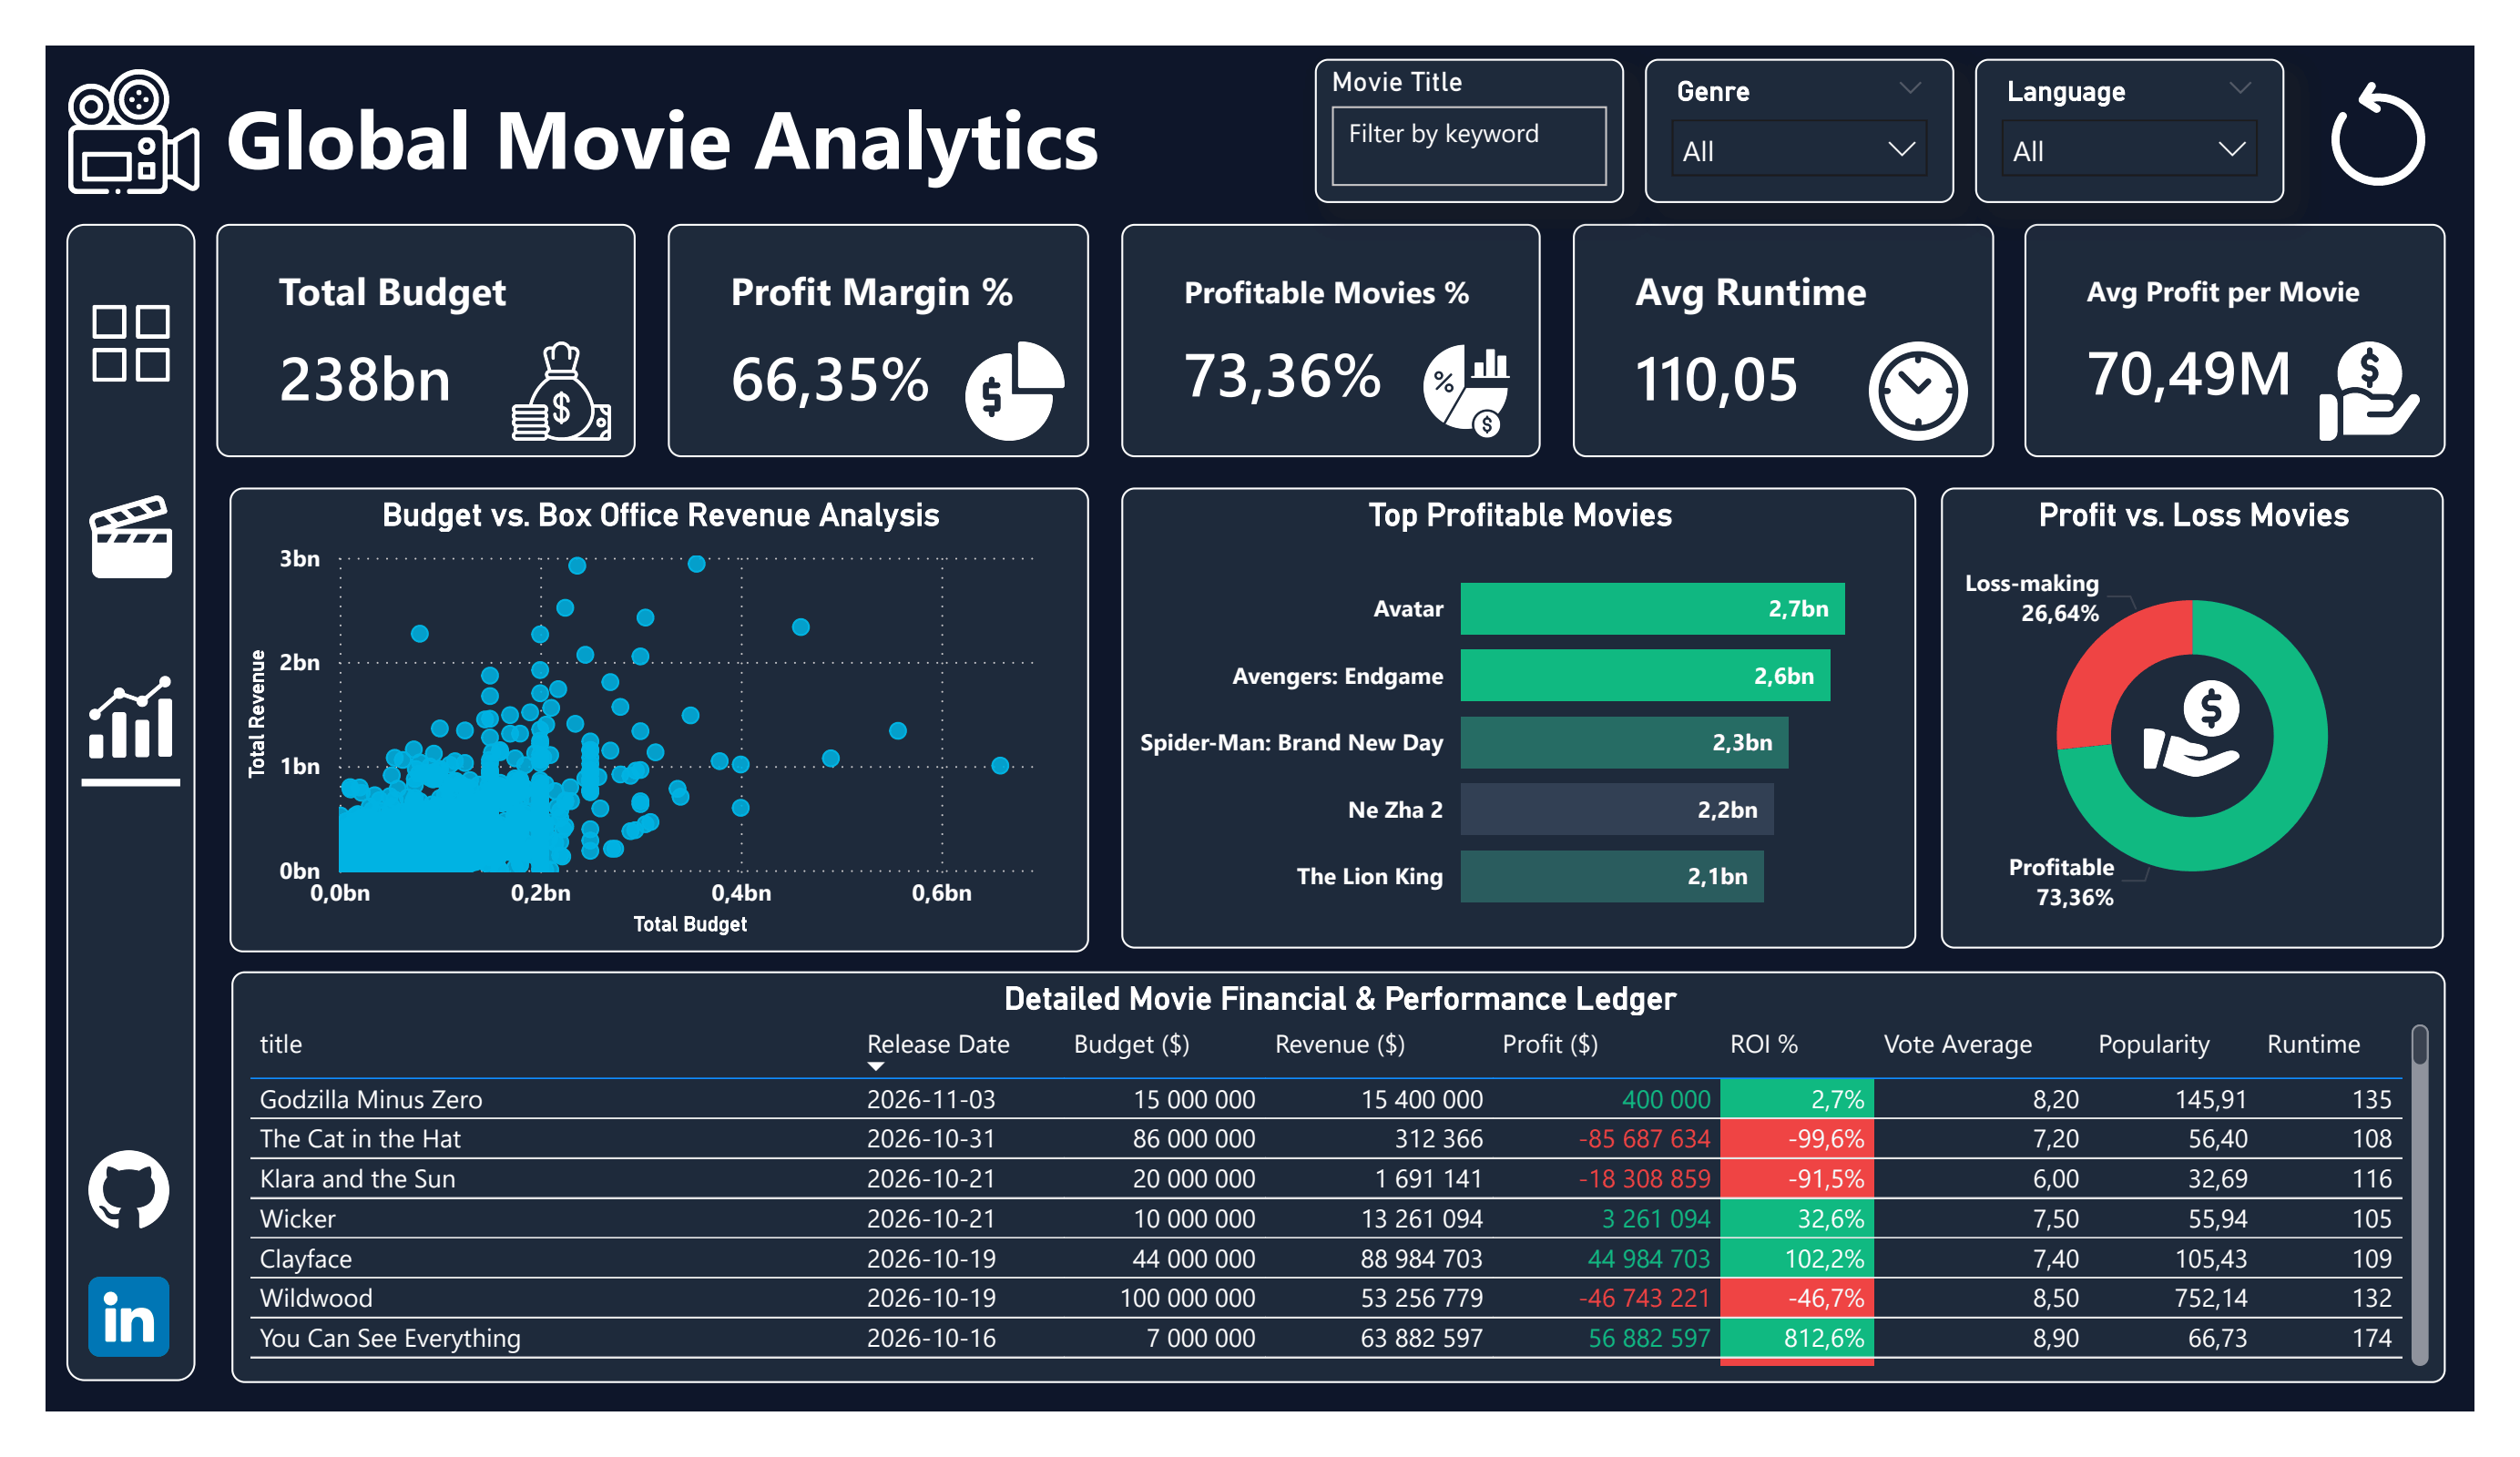

The dashboard page shown, as its layout file describes it:
{"tool":"powerbi","page":{"name":"Financial Drill-Down","canvas":[1280,720],"ordinal":2},"visuals":[{"type":"cardVisual","fields":{"Data":["_Measures.Total Budget"]},"box":[90,93.9,221.5,123.4],"z":0},{"type":"cardVisual","fields":{"Data":["_Measures.Profit Margin %"]},"box":[328.4,93.9,221.5,123.4],"z":1000},{"type":"cardVisual","fields":{"Data":["_Measures.Profitable Movies Ratio %"]},"box":[566.7,93.9,221.5,123.4],"z":2000},{"type":"cardVisual","fields":{"Data":["_Measures.Avg Runtime"]},"box":[805.1,93.9,221.5,123.4],"z":3000},{"type":"cardVisual","fields":{"Data":["_Measures.Avg Profit per Movie"]},"box":[1043.5,93.9,221.5,123.4],"z":4000},{"type":"textSlicer","title":"Movie Title","fields":{"Values":["vw_fact_movies_unique.title"]},"box":[668.7,7.4,163.5,75.9],"z":5000},{"type":"slicer","fields":{"Values":["dim_genres.genre_name"]},"box":[842.7,7.4,163.5,75.9],"z":6000},{"type":"slicer","fields":{"Values":["vw_fact_movies_unique.original_language"]},"box":[1016.7,7.4,163.5,75.9],"z":7000},{"type":"tableEx","title":"Detailed Movie Financial & Performance Ledger","fields":{"Values":["vw_fact_movies_unique.title","vw_fact_movies_unique.release_date","Sum(vw_fact_movies_unique.budget)","Sum(vw_fact_movies_unique.revenue)","Sum(vw_fact_movies_unique.profit)","Sum(vw_fact_movies_unique.roi)","Sum(vw_fact_movies_unique.vote_average)","Sum(vw_fact_movies_unique.popularity)","Sum(vw_fact_movies_unique.runtime)"]},"box":[97.7,488.3,1167.5,216.8],"z":8000},{"type":"shape","box":[10.9,94.2,67.7,610.2],"z":9000},{"type":"scatterChart","title":"Budget vs. Box Office Revenue Analysis","fields":{"X":["_Measures.Total Budget"],"Y":["_Measures.Total Revenue"],"Category":["vw_fact_movies_unique.title"]},"box":[96.7,233.2,453.1,245.3],"z":10000},{"type":"image","box":[10.5,236.3,67.5,45.4],"z":11000},{"type":"image","box":[10.5,126.6,67.5,60.1],"z":12000},{"type":"image","box":[10.5,331.2,67.5,45.4],"z":13000},{"type":"shape","box":[19,376.5,51.7,23.2],"z":14000},{"type":"image","box":[1193.9,12.7,70.7,67.5],"z":15000},{"type":"image","box":[23.2,578,42.2,49.6],"z":16000},{"type":"image","box":[23.2,645.5,42.2,49.6],"z":17000},{"type":"image","box":[3.2,10.5,86.5,69.6],"z":18000},{"type":"textbox","box":[89.6,13.7,510.5,69.6],"z":19000},{"type":"donutChart","title":"Profit vs. Loss Movies","fields":{"Category":["vw_fact_movies_unique.Financial Outcome"],"Y":["_Measures.Total Movies"]},"box":[999.3,233.2,264.6,242.9],"z":20000},{"type":"clusteredBarChart","title":"Top Profitable Movies","fields":{"Category":["vw_fact_movies_unique.title"],"Y":["_Measures.Total Profit"]},"box":[566.7,233.2,419.3,242.9],"z":21000},{"type":"image","box":[1106.4,331.2,49.6,57],"z":22000},{"type":"image","box":[233.1,156.1,78,51.7],"z":23000},{"type":"image","box":[471.5,156.1,78,51.7],"z":24000},{"type":"image","box":[709.8,156.1,78,51.7],"z":25000},{"type":"image","box":[948.2,156.1,78,51.7],"z":26000},{"type":"image","box":[1185.4,155.9,78.5,52],"z":27000}]}

Visuals, with their boxes on the page's 1280x720 design canvas (x1, y1, x2, y2). These are canvas units, not pixel positions in the 2520x1457 screenshot, which may show the page scaled, cropped or inside an application window:
cardVisual - _Measures.Total Budget: <bbox>90, 94, 312, 217</bbox>
cardVisual - _Measures.Profit Margin %: <bbox>328, 94, 550, 217</bbox>
cardVisual - _Measures.Profitable Movies Ratio %: <bbox>567, 94, 788, 217</bbox>
cardVisual - _Measures.Avg Runtime: <bbox>805, 94, 1027, 217</bbox>
cardVisual - _Measures.Avg Profit per Movie: <bbox>1044, 94, 1265, 217</bbox>
"Movie Title" textSlicer: <bbox>669, 7, 832, 83</bbox>
slicer - dim_genres.genre_name: <bbox>843, 7, 1006, 83</bbox>
slicer - vw_fact_movies_unique.original_language: <bbox>1017, 7, 1180, 83</bbox>
"Detailed Movie Financial & Performance Ledger" tableEx: <bbox>98, 488, 1265, 705</bbox>
shape: <bbox>11, 94, 79, 704</bbox>
"Budget vs. Box Office Revenue Analysis" scatterChart: <bbox>97, 233, 550, 478</bbox>
image: <bbox>10, 236, 78, 282</bbox>
image: <bbox>10, 127, 78, 187</bbox>
image: <bbox>10, 331, 78, 377</bbox>
shape: <bbox>19, 376, 71, 400</bbox>
image: <bbox>1194, 13, 1265, 80</bbox>
image: <bbox>23, 578, 65, 628</bbox>
image: <bbox>23, 646, 65, 695</bbox>
image: <bbox>3, 10, 90, 80</bbox>
textbox: <bbox>90, 14, 600, 83</bbox>
"Profit vs. Loss Movies" donutChart: <bbox>999, 233, 1264, 476</bbox>
"Top Profitable Movies" clusteredBarChart: <bbox>567, 233, 986, 476</bbox>
image: <bbox>1106, 331, 1156, 388</bbox>
image: <bbox>233, 156, 311, 208</bbox>
image: <bbox>472, 156, 550, 208</bbox>
image: <bbox>710, 156, 788, 208</bbox>
image: <bbox>948, 156, 1026, 208</bbox>
image: <bbox>1185, 156, 1264, 208</bbox>
